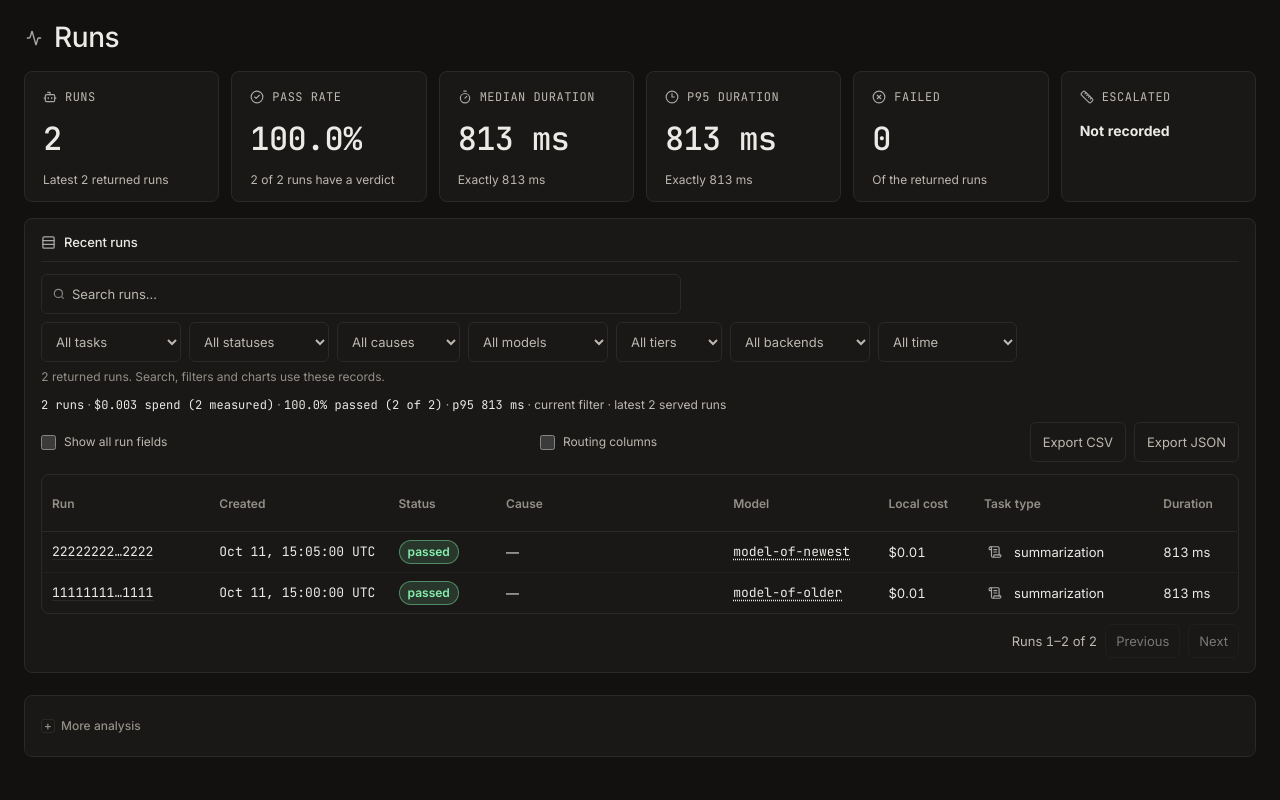
OMN-19920: one run whole on the Workflow page › R1: a run chosen in Runs opens Workflow with its answer, model, backend, tokens, cost and status
The image size is (1280, 800).
Click the link named "11111111-1111-4111-8111-111111111111".
click(103, 592)  # box [52, 584, 153, 601]
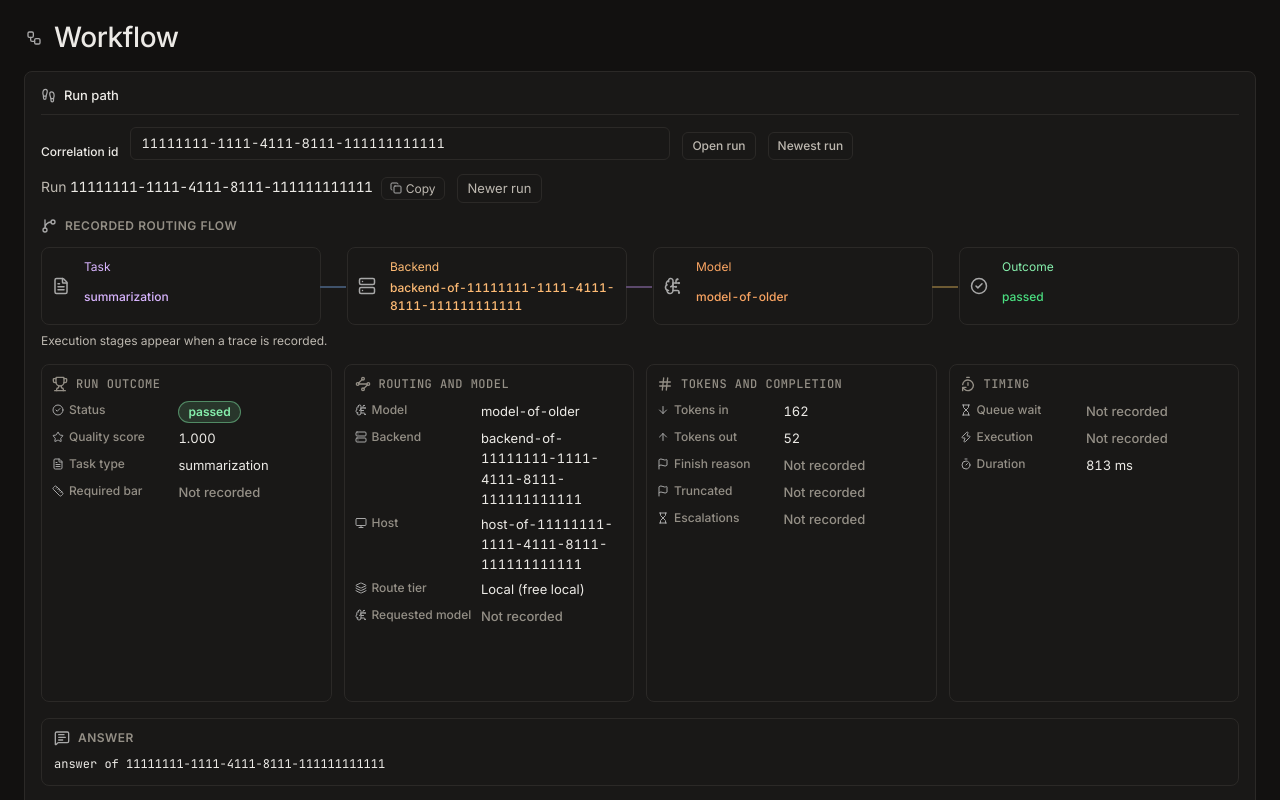
Check: the heading "Run path" is shown, box [41, 86, 1239, 115]
